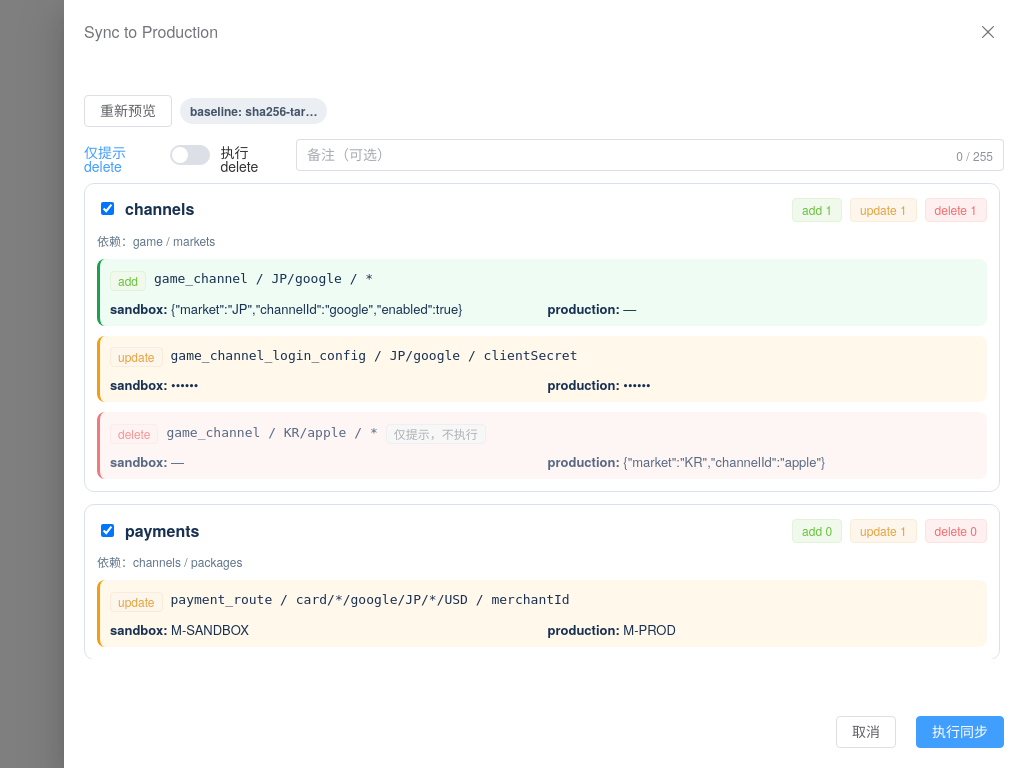
Test case: SyncSectionDrawer · 结果反馈与错误码 › UNKNOWN_SECTION：行内展示 section 非法提示
Check: the element with class "sync-section-card" that starts with "channels" is shown, box x1=84 y1=183 x2=1000 y2=492
Click the button "执行同步" at (960, 732), box x1=916 y1=716 x2=1004 y2=748
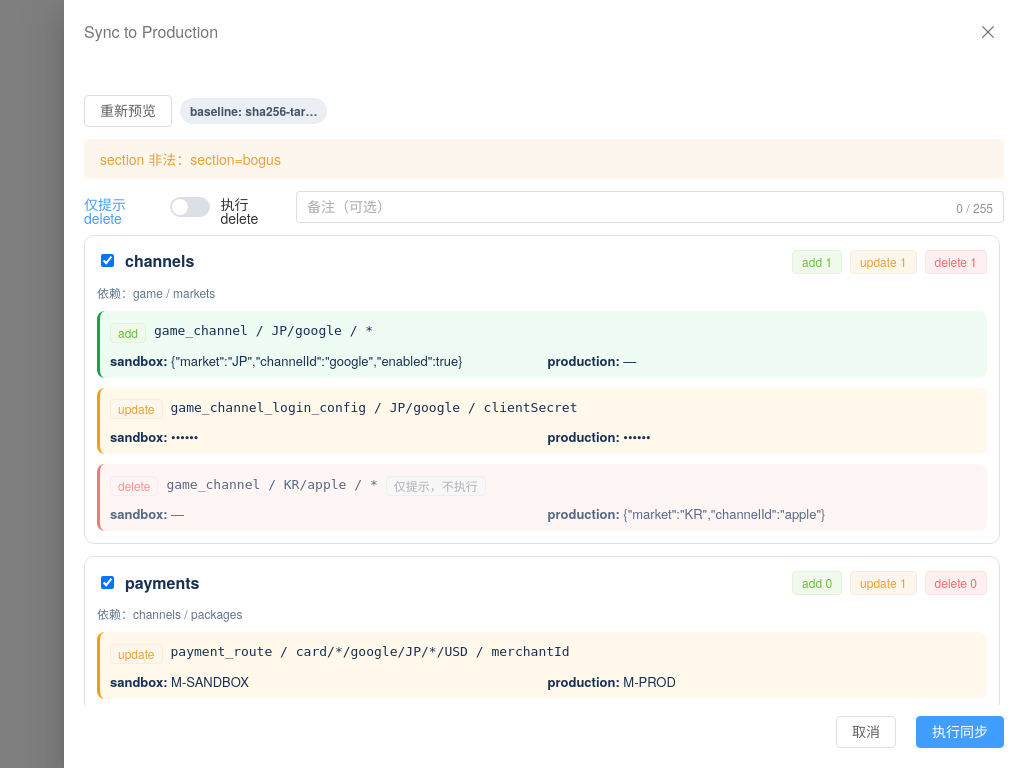
Check: the text "section 非法" is shown, box x1=100 y1=149 x2=281 y2=169
